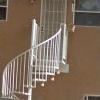stairs: (1, 74, 31, 100), (33, 59, 62, 84), (5, 91, 30, 100)
